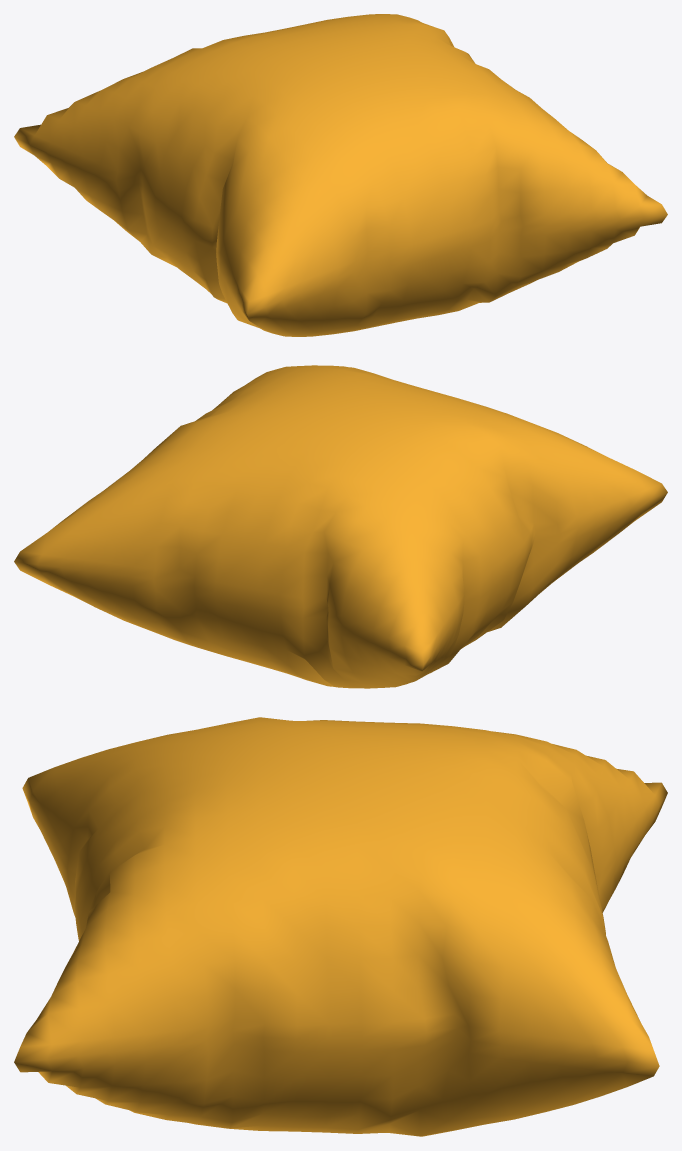
The model's file is KissenGelb.fbx.
The picture shows the model from 3 angles, top to bottom: view 1: azimuth 30°, elevation 25°; view 2: azimuth 150°, elevation 25°; view 3: azimuth 270°, elevation 25°; orthographic projection. The views are drawn at different scales.
Parts seen in each view (by area): view 1: Plane; view 2: Plane; view 3: Plane.
Boxes of the visible parts, x1,y1,x2,y2 form: Plane: (14,14,667,336); Plane: (14,365,667,688); Plane: (14,717,667,1136).
Bounding box in the file's own units: 194 × 104 × 193.
Materials: 1 (1 with a texture image).
